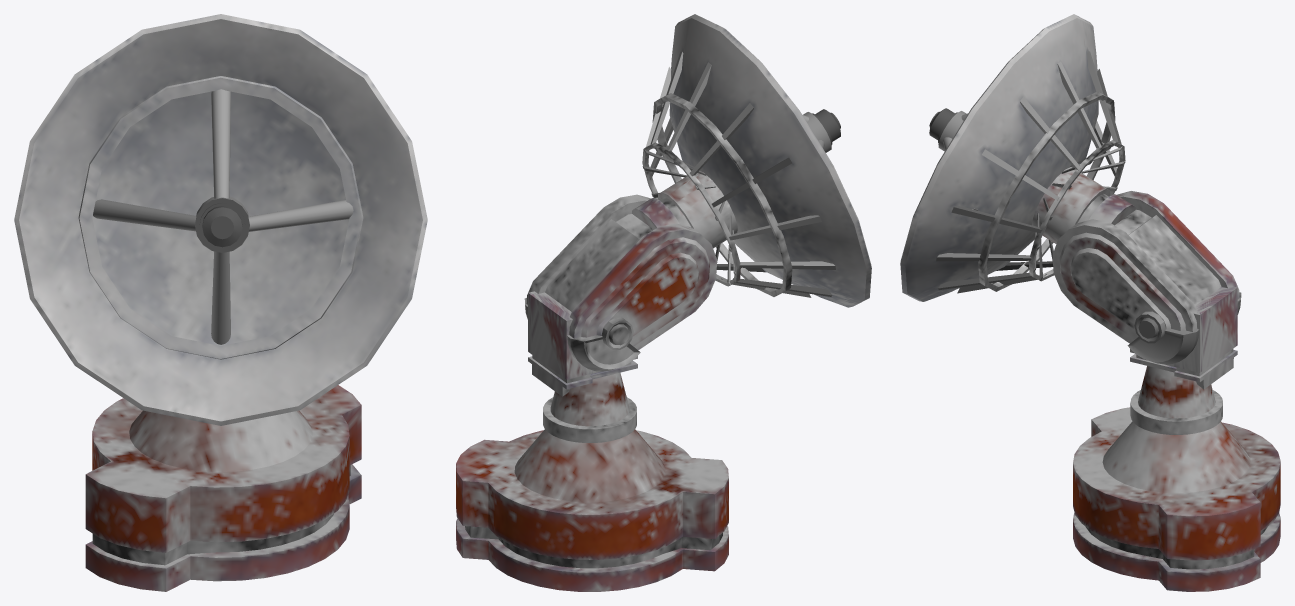
File: disk.fbx
The picture shows the model from 3 angles, left to right: view 1: azimuth 30°, elevation 25°; view 2: azimuth 150°, elevation 25°; view 3: azimuth 270°, elevation 25°; orthographic projection. The views are drawn at different scales.
Parts seen in each view (by area): view 1: disk; view 2: disk; view 3: disk.
Part boxes in pixels (x1,y1,x2,y2): disk: (14,14,427,591); disk: (456,14,871,591); disk: (900,14,1280,591).
Size of the model in its own units: 815 by 1137 by 820.
